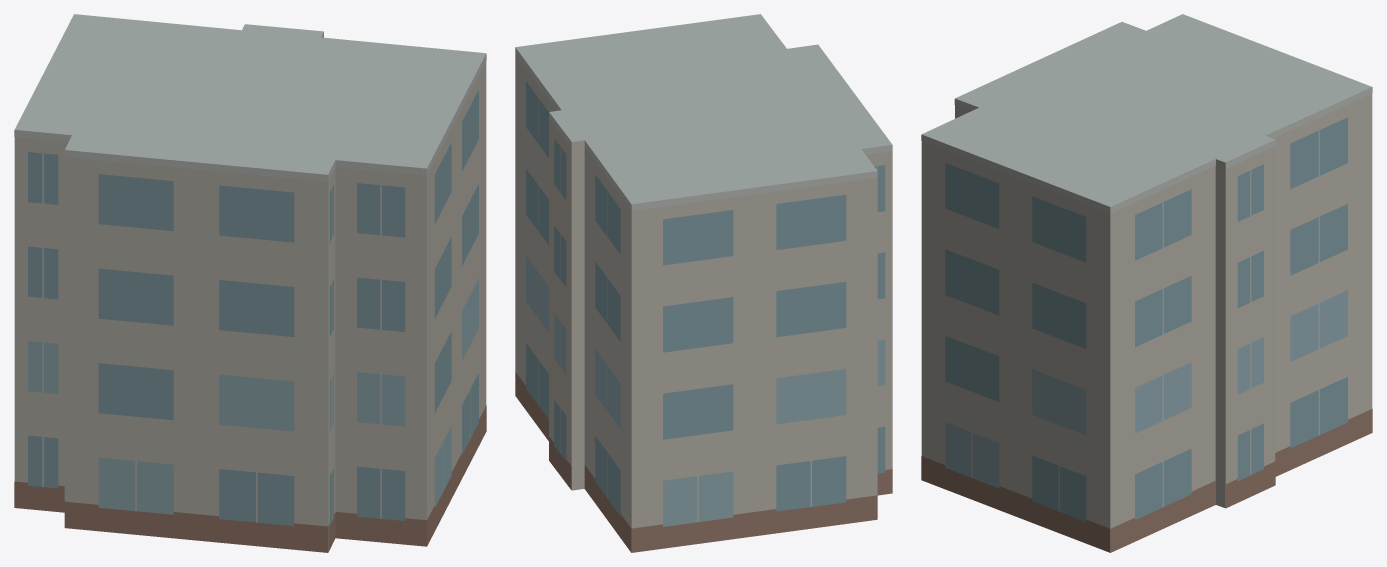
Rendered from survey-upis-32609576.glb.
3 views of the same model, side by side, from view 1: azimuth 30°, elevation 25°; view 2: azimuth 150°, elevation 25°; view 3: azimuth 270°, elevation 25° (orthographic). The views are drawn at different scales.
Visible parts, largest first — view 1: survey-upis-32609576.tmp; view 2: survey-upis-32609576.tmp; view 3: survey-upis-32609576.tmp.
Part boxes in pixels (left/top/right/bottom): survey-upis-32609576.tmp: left=14, top=14, right=486, bottom=552; survey-upis-32609576.tmp: left=515, top=14, right=892, bottom=552; survey-upis-32609576.tmp: left=921, top=14, right=1372, bottom=552.
Bounding box in the file's own units: 15.57 × 13 × 15.37.
